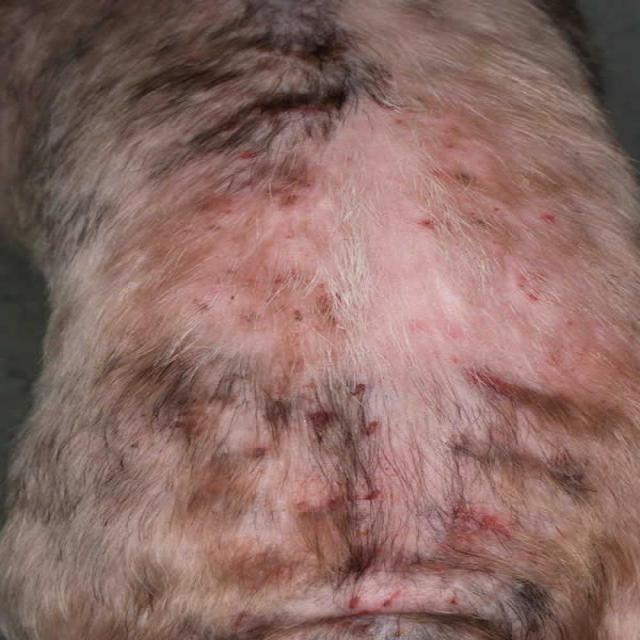allergic dermatitis: (169, 79, 614, 429), (241, 424, 531, 597)
